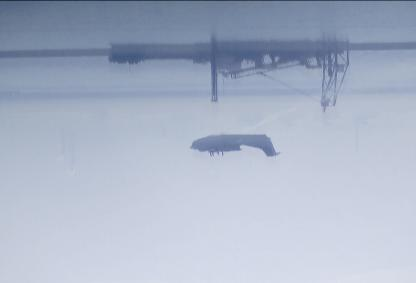Tu95: (189, 134, 281, 156)
